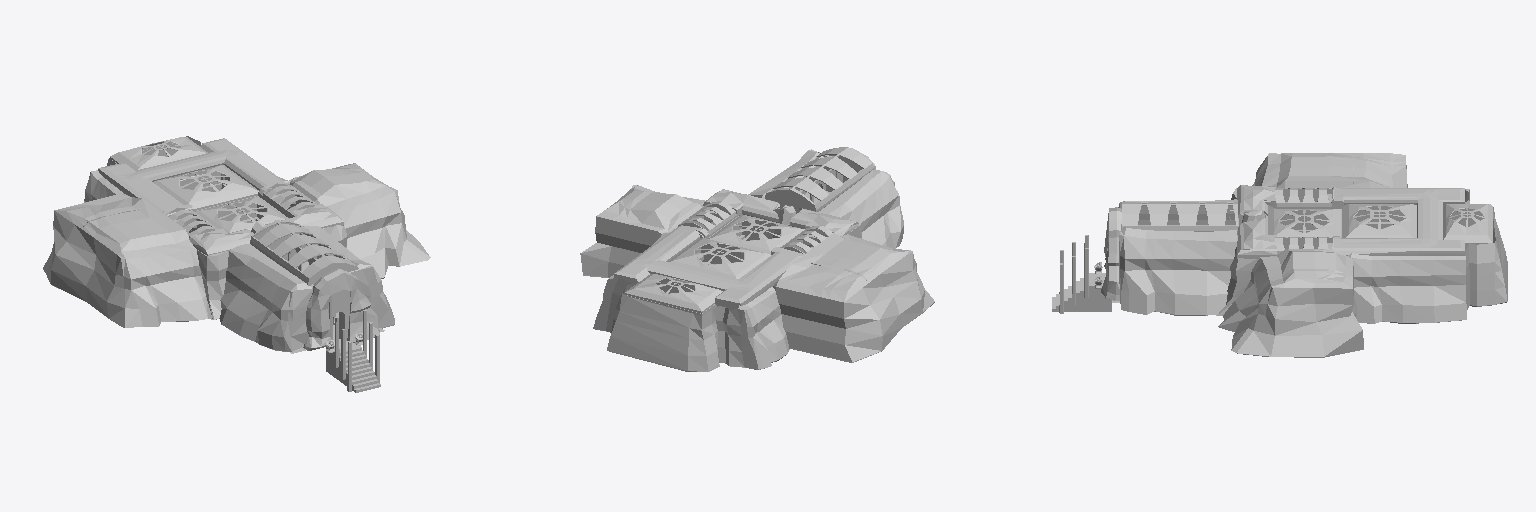
File: Temple.obj
3 views of the same model, side by side, from view 1: azimuth 30°, elevation 25°; view 2: azimuth 150°, elevation 25°; view 3: azimuth 270°, elevation 25° (orthographic).
Visible parts, largest first — view 1: pPlane11 polySurface135, pPlane11 polySurface103, pPlane11 polySurface80, pCube150, pCube81, pPlane11 polySurface78, pCube146, pCube156, pPlane11 polySurface79, pCube151, pCube145, pCube166 (+3 smaller); view 2: pPlane11 polySurface135, polySurface136, pPlane11 polySurface103, pCube150, pPlane11 polySurface80, pCube81, pCube156, pCube151, pCube146, pCube145, pCube89, pPlane11 polySurface79 (+1 smaller); view 3: pPlane11 polySurface103, polySurface136, pPlane11 polySurface79, pCube150, pPlane11 polySurface135, pCube81, pCube156, pCube146, pCube151, pCube145, pPlane11 polySurface78, pCube166 (+2 smaller).
Boxes of the visible parts, x1,y1,x2,y2 form: pPlane11 polySurface135: [43, 194, 228, 327]; pPlane11 polySurface103: [288, 163, 430, 278]; pPlane11 polySurface80: [220, 244, 313, 351]; pCube150: [98, 138, 286, 219]; pCube81: [250, 220, 358, 285]; pPlane11 polySurface78: [303, 268, 379, 350]; pCube146: [153, 165, 258, 210]; pCube156: [189, 204, 343, 255]; pPlane11 polySurface79: [301, 226, 394, 328]; pCube151: [110, 137, 207, 170]; pCube145: [196, 196, 287, 232]; pCube166: [326, 341, 380, 392]; pPlane11 polySurface135: [773, 224, 934, 362]; polySurface136: [593, 232, 789, 371]; pPlane11 polySurface103: [580, 185, 704, 277]; pCube150: [614, 225, 804, 308]; pPlane11 polySurface80: [818, 170, 903, 248]; pCube81: [765, 147, 873, 212]; pCube156: [703, 189, 858, 236]; pCube151: [624, 274, 722, 313]; pCube146: [668, 238, 770, 278]; pCube145: [708, 214, 804, 254]; pCube89: [678, 201, 736, 236]; pPlane11 polySurface79: [748, 149, 831, 197]; pPlane11 polySurface103: [1214, 247, 1363, 357]; polySurface136: [1347, 189, 1507, 323]; pPlane11 polySurface79: [1119, 224, 1236, 315]; pCube150: [1332, 187, 1464, 255]; pPlane11 polySurface135: [1229, 153, 1407, 219]; pCube81: [1122, 202, 1237, 233]; pCube156: [1237, 185, 1276, 258]; pCube146: [1342, 204, 1416, 237]; pCube151: [1443, 204, 1491, 244]; pCube145: [1268, 209, 1340, 236]; pPlane11 polySurface78: [1101, 207, 1121, 300]; pCube166: [1052, 273, 1111, 311].
Bounding box in the file's own units: 6794 × 2090 × 8397.